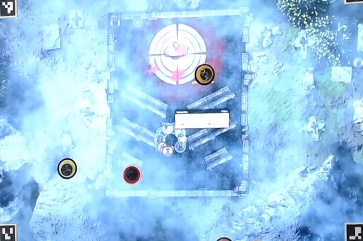lime_green_violet: (55, 157, 78, 180)
red: (120, 164, 143, 187)
yellow_night_blue: (192, 63, 215, 86)
